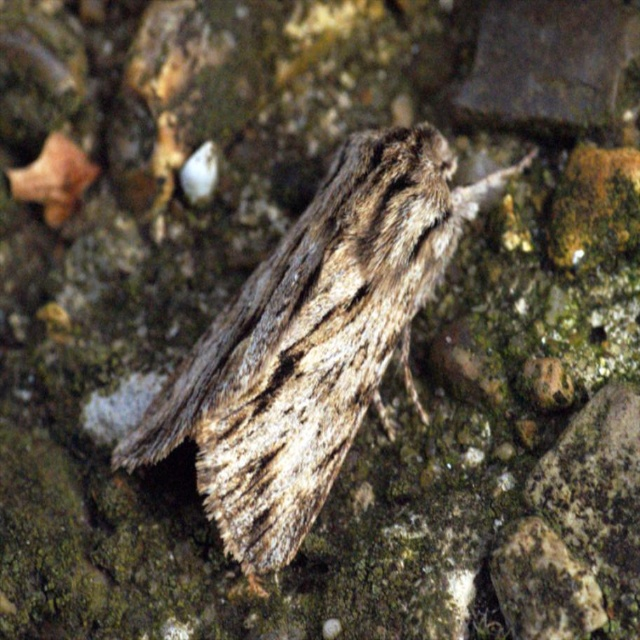Moths and butterflies: (103, 117, 538, 598)
